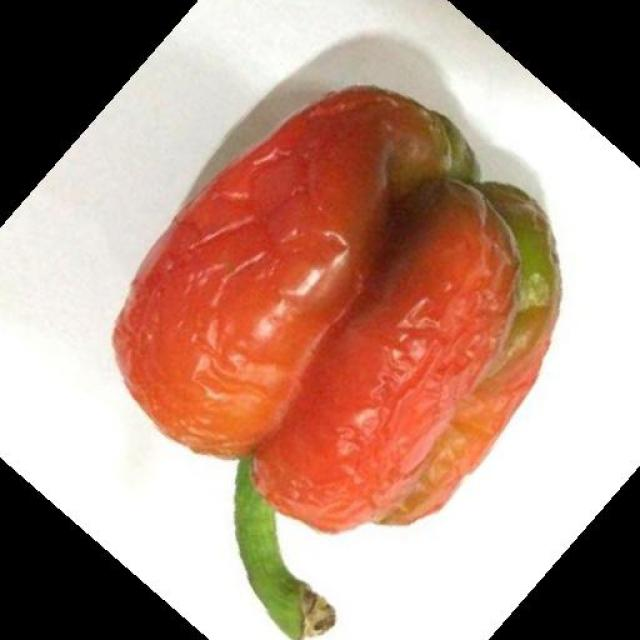Stale_Capsicum: (108, 65, 582, 526)
